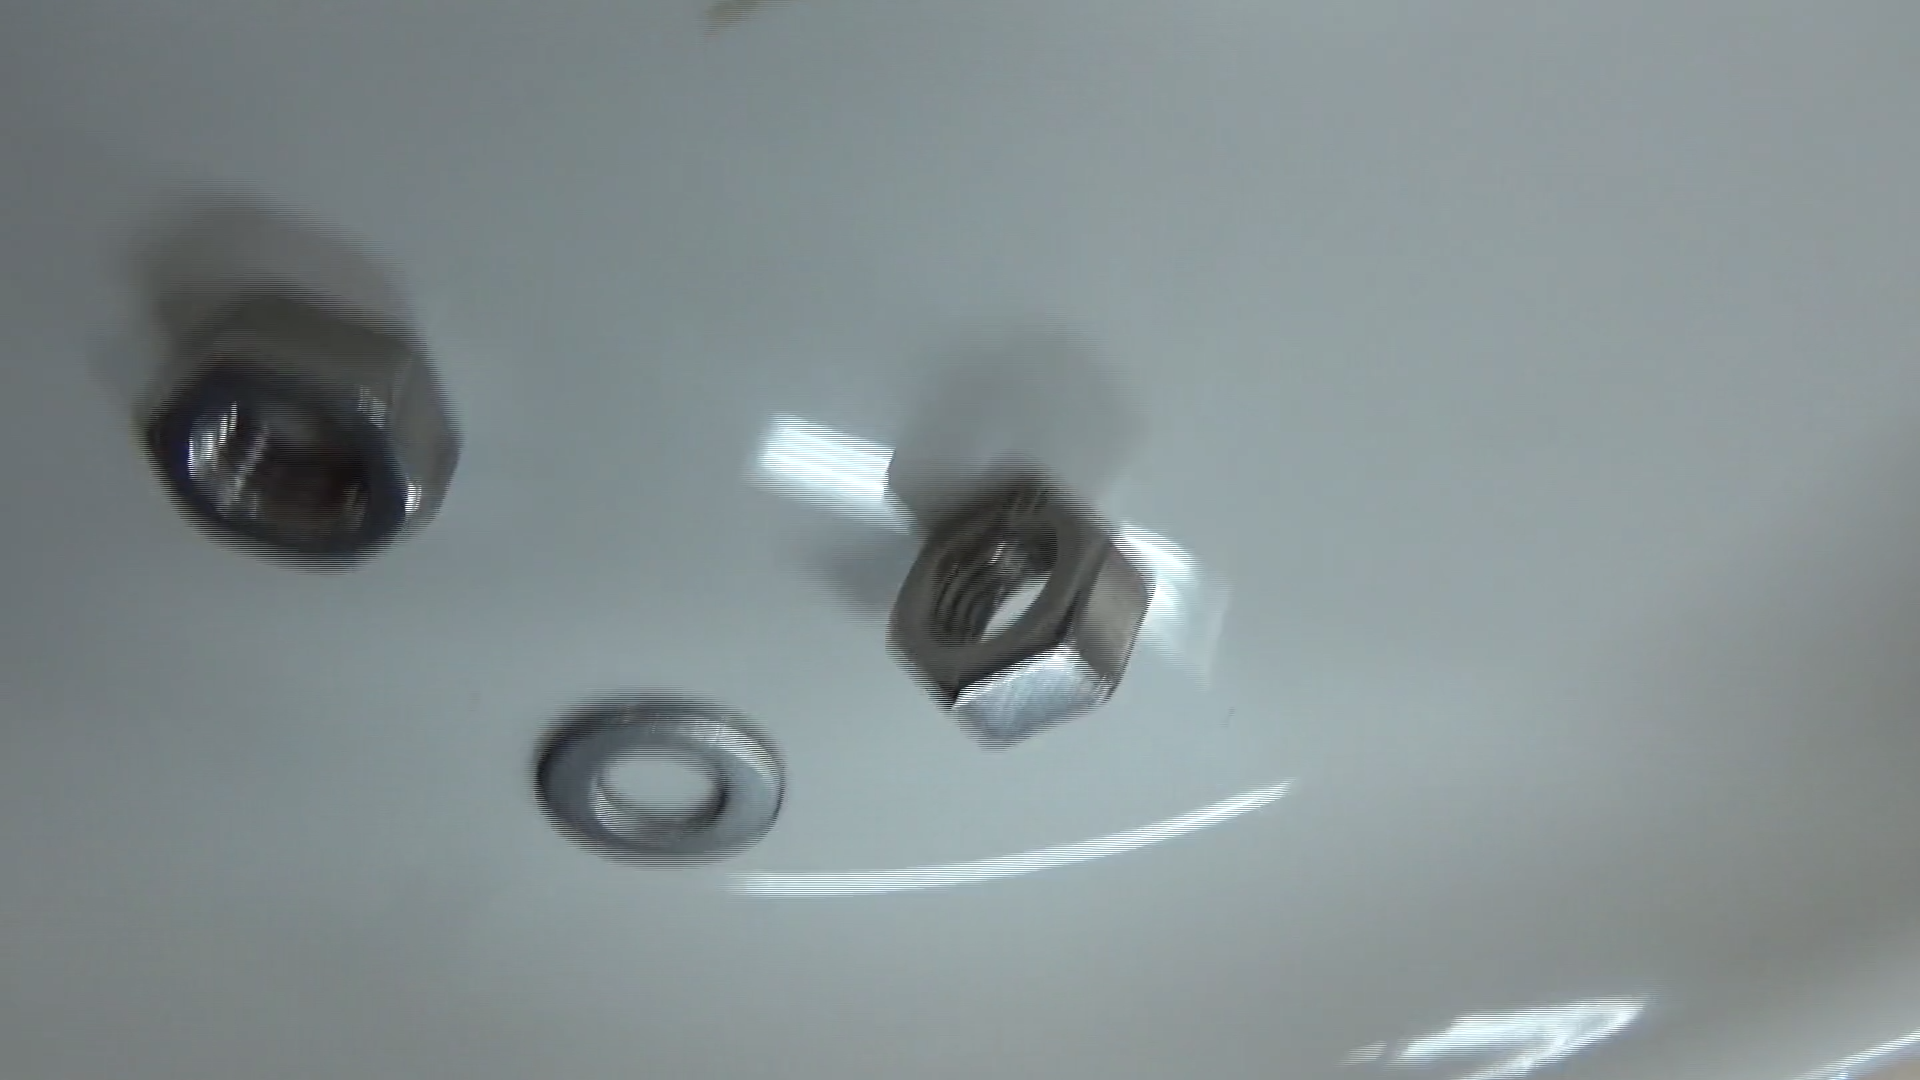nut: (128, 272, 464, 571), (878, 476, 1159, 752)
washer: (529, 684, 796, 872)
